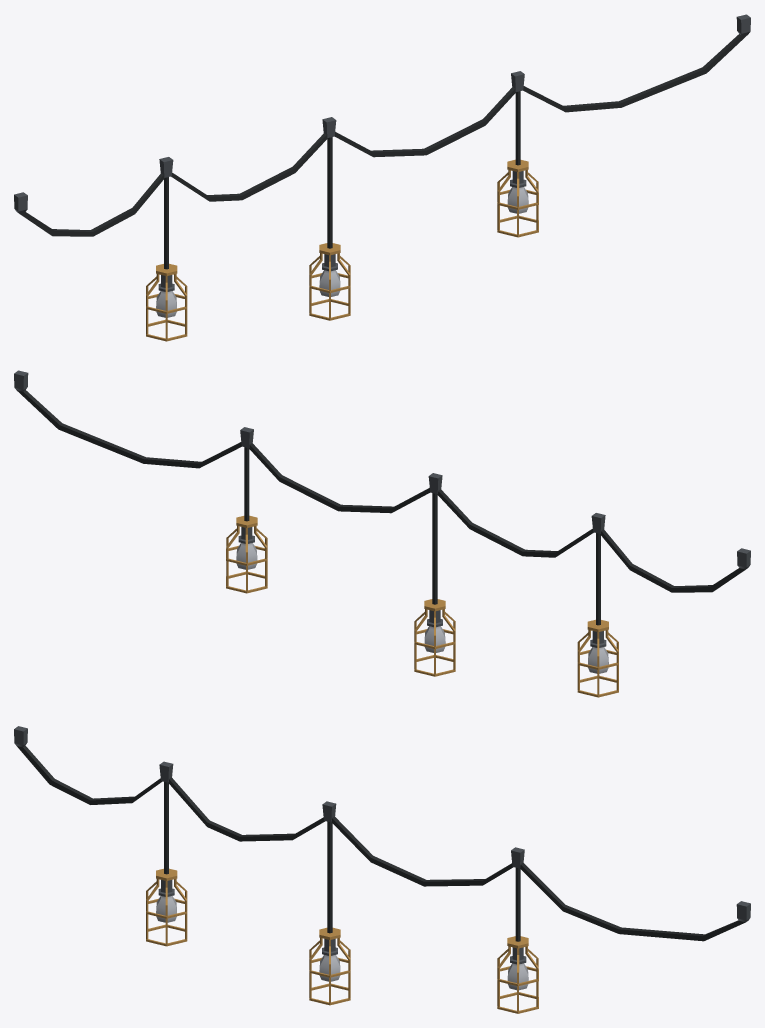
Rendered from SM_Prop_Wire_Lights_01.glb.
3 renders of one model, top to bottom at view 1: azimuth 30°, elevation 25°; view 2: azimuth 150°, elevation 25°; view 3: azimuth 330°, elevation 25°, orthographic.
Parts seen in each view (by area): view 1: SM_Prop_Wire_Lights_01; view 2: SM_Prop_Wire_Lights_01; view 3: SM_Prop_Wire_Lights_01.
Part boxes in pixels (left/top/right/bottom): SM_Prop_Wire_Lights_01: left=14, top=14, right=750, bottom=341; SM_Prop_Wire_Lights_01: left=14, top=370, right=750, bottom=697; SM_Prop_Wire_Lights_01: left=14, top=726, right=750, bottom=1013.
Bounding box in the file's own units: 3.74 × 0.9377 × 0.1831.
1 material, 1 textured.
